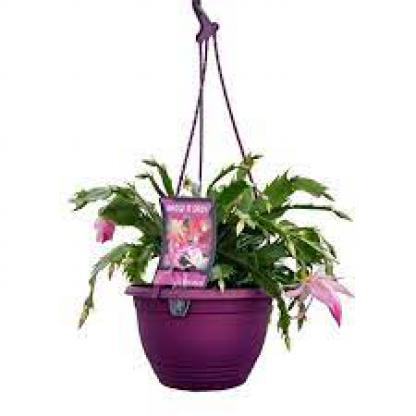Aglonema: (11, 84, 348, 416)
